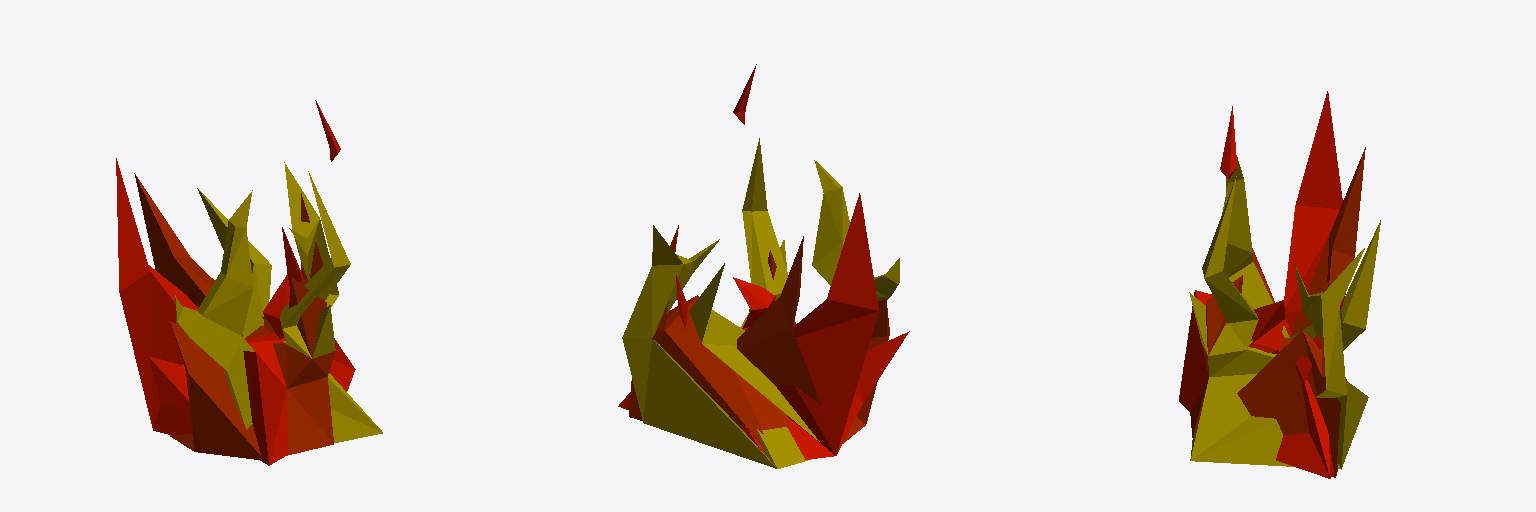
File: fire.obj
3 renders of one model, left to right at view 1: azimuth 30°, elevation 25°; view 2: azimuth 150°, elevation 25°; view 3: azimuth 270°, elevation 25°, orthographic.
Parts seen in each view (by area): view 1: Cube, Cube.001, Cube.002; view 2: Cube, Cube.001, Cube.002; view 3: Cube, Cube.001, Cube.002.
Boxes of the visible parts, x1,y1,x2,y2 form: Cube: [175, 162, 382, 442]; Cube.001: [116, 100, 355, 465]; Cube.002: [134, 173, 334, 459]; Cube: [622, 138, 899, 468]; Cube.001: [618, 64, 909, 459]; Cube.002: [629, 225, 889, 443]; Cube: [1189, 157, 1380, 469]; Cube.001: [1179, 91, 1345, 478]; Cube.002: [1190, 147, 1365, 477].
Bounding box in the file's own units: 4.76 × 6.11 × 3.35.